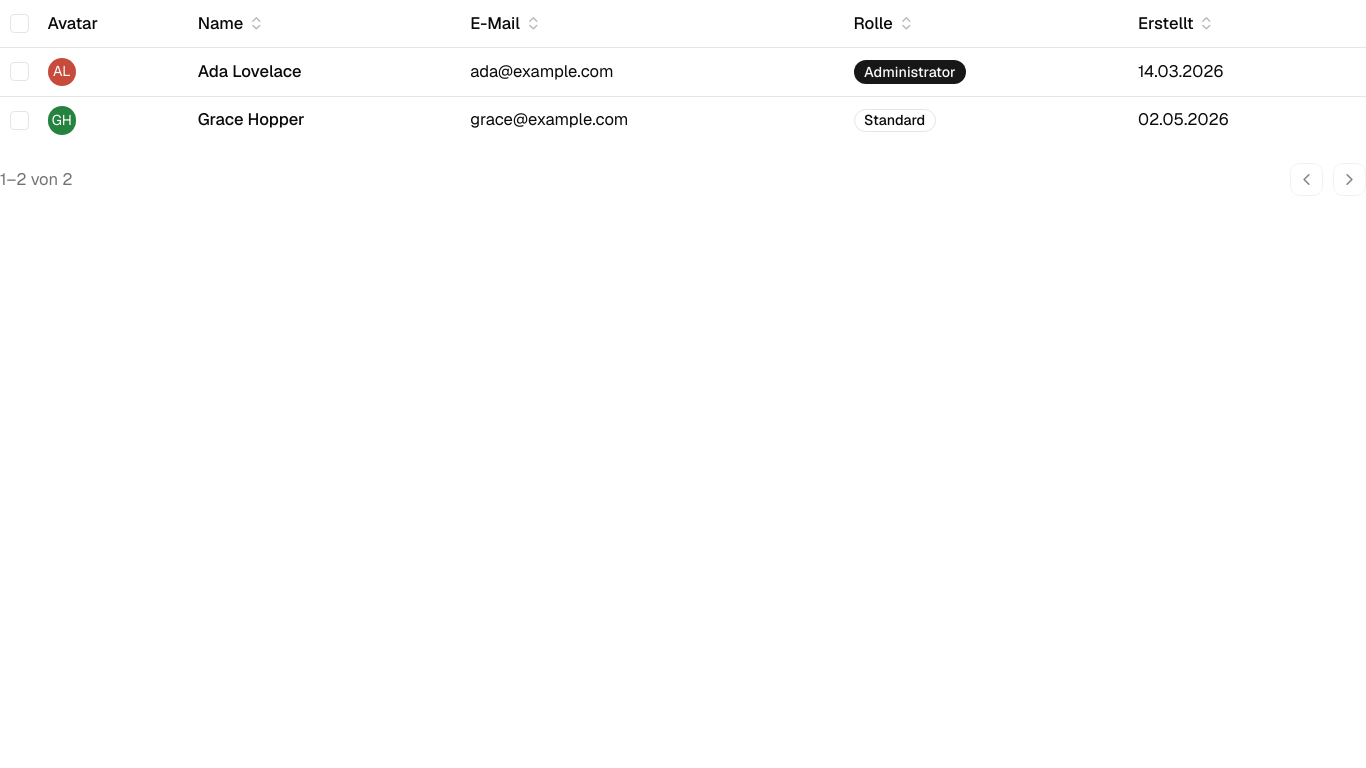
Test: <UsersTable> › names the real cascade counts in the confirmation
Click the checkbox named "Diese Zeile auswählen" next to "AL". click: click(19, 72)
box: [10,62,28,81]
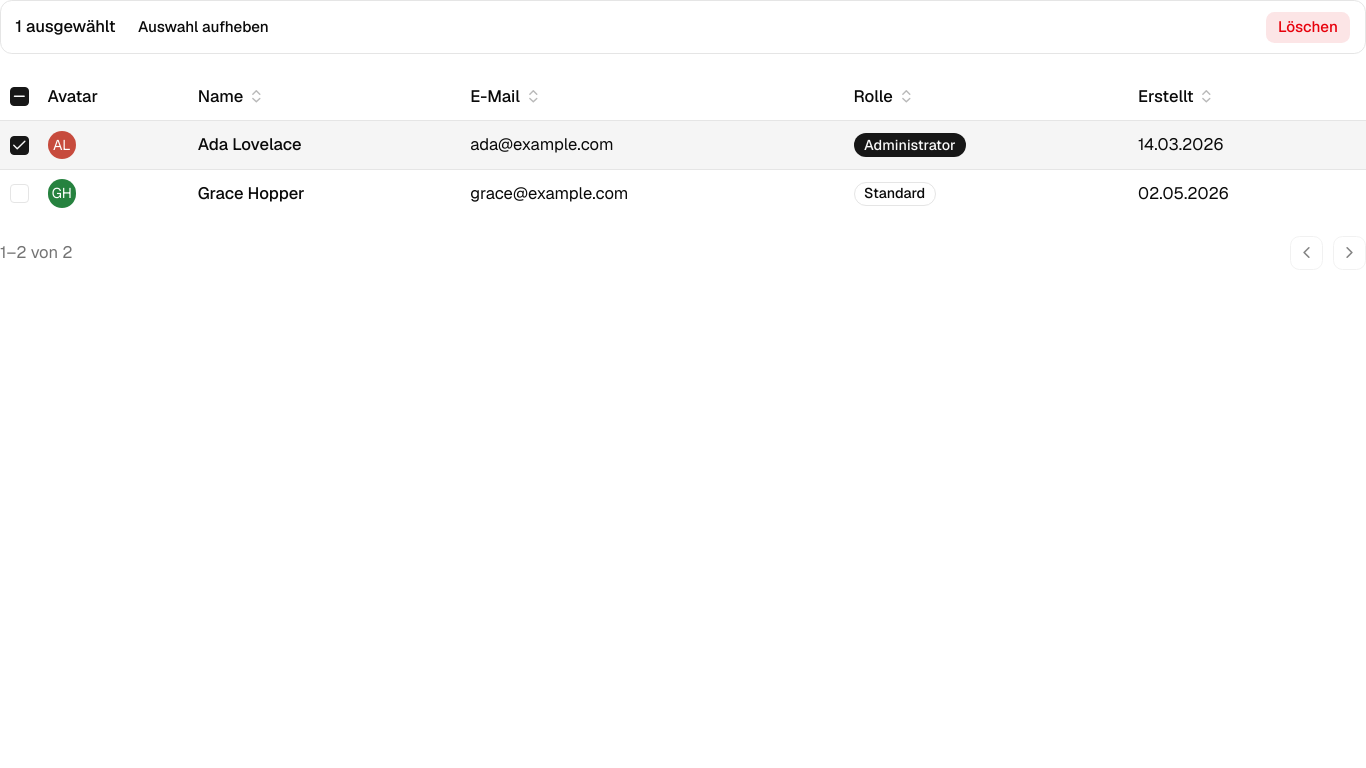
Check: the text "1 ausgewählt" is shown, box [15,15,116,39]
Click the button "Löschen". click: click(1308, 27)
box: [1265,10,1351,44]
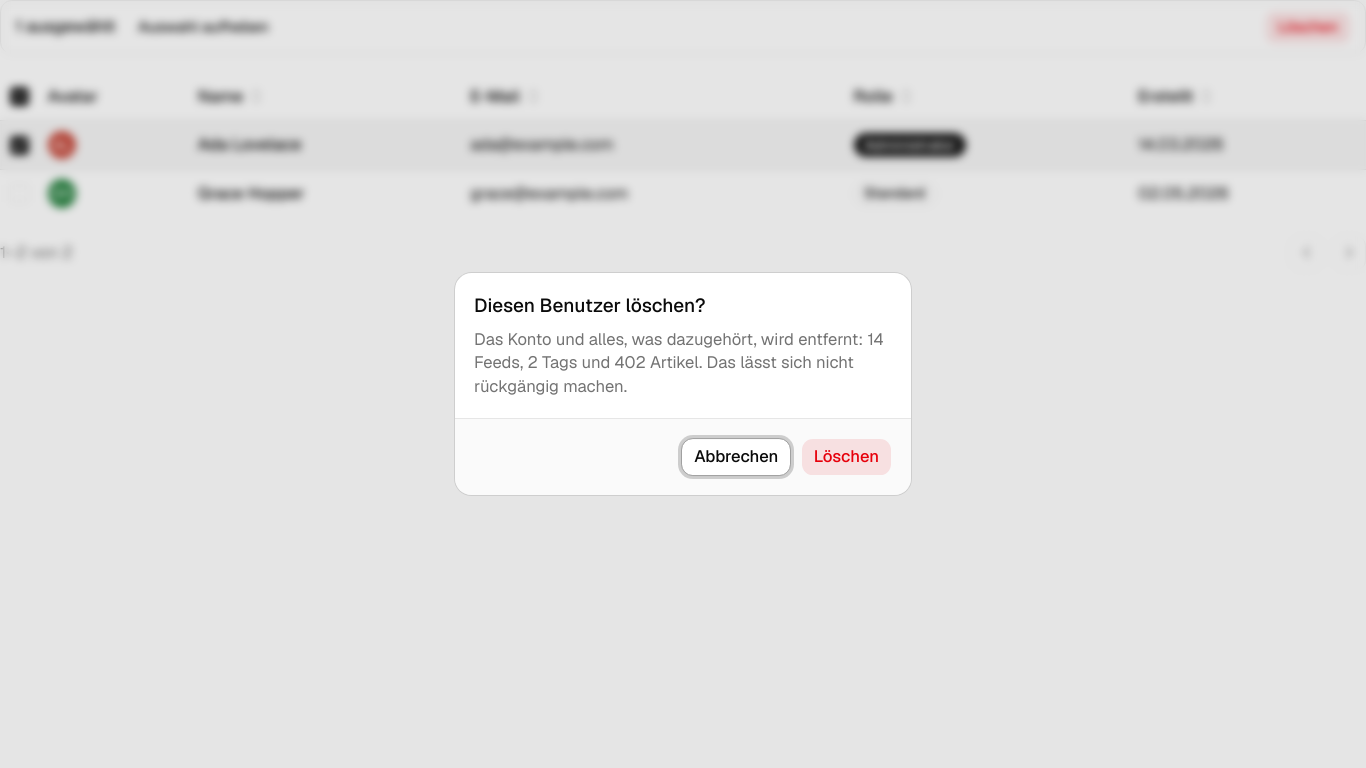
Check: the heading "Diesen Benutzer löschen?" is shown, box [474,292,706,321]
Check: the text "14 Feeds, 2 Tags und 402 Artikel" is shown, box [474,328,884,397]
